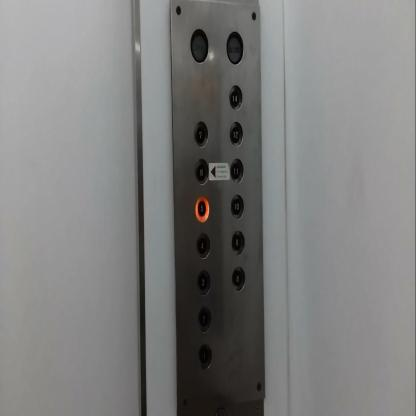1: (196, 341, 212, 370)
10: (230, 192, 244, 220)
11: (230, 157, 244, 183)
12: (228, 120, 243, 146)
14: (228, 84, 242, 109)
2: (196, 304, 211, 332)
3: (196, 268, 210, 296)
4: (194, 232, 210, 258)
5: (194, 194, 209, 222)
6: (194, 157, 209, 184)
7: (193, 119, 208, 147)
8: (230, 265, 245, 291)
9: (230, 229, 244, 256)
text_blur: (190, 28, 208, 64), (226, 31, 244, 64)
